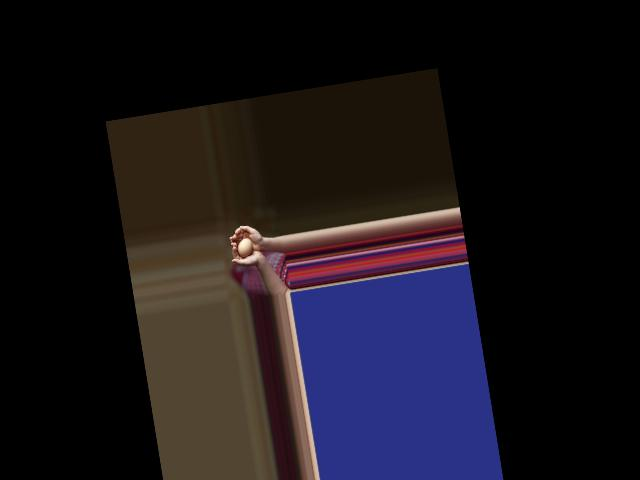egg: (235, 238, 253, 258)
